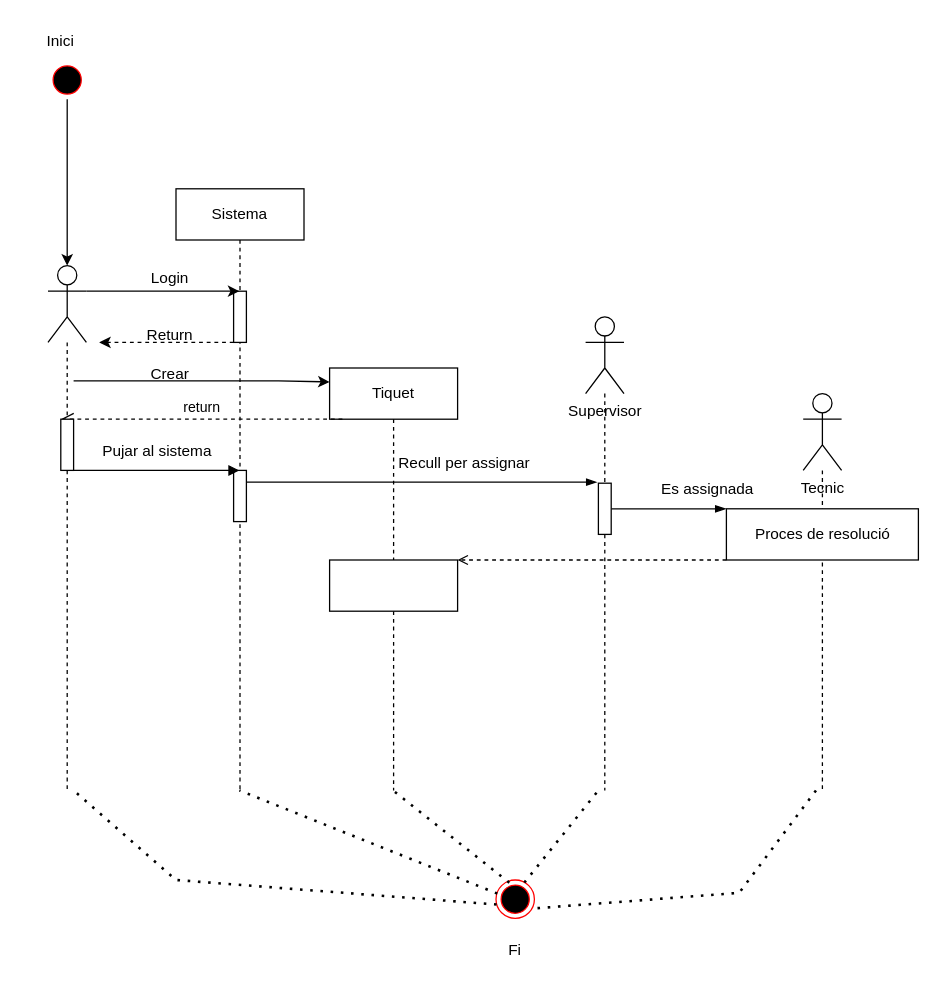
This 941x991 diagram has some shape labels left out. Each missing label, with the box of its shape:
Empleado: (47, 264, 86, 342)
Tancament: (328, 559, 458, 611)
